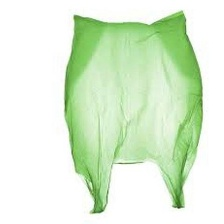plastic_bag: (61, 8, 207, 216)
